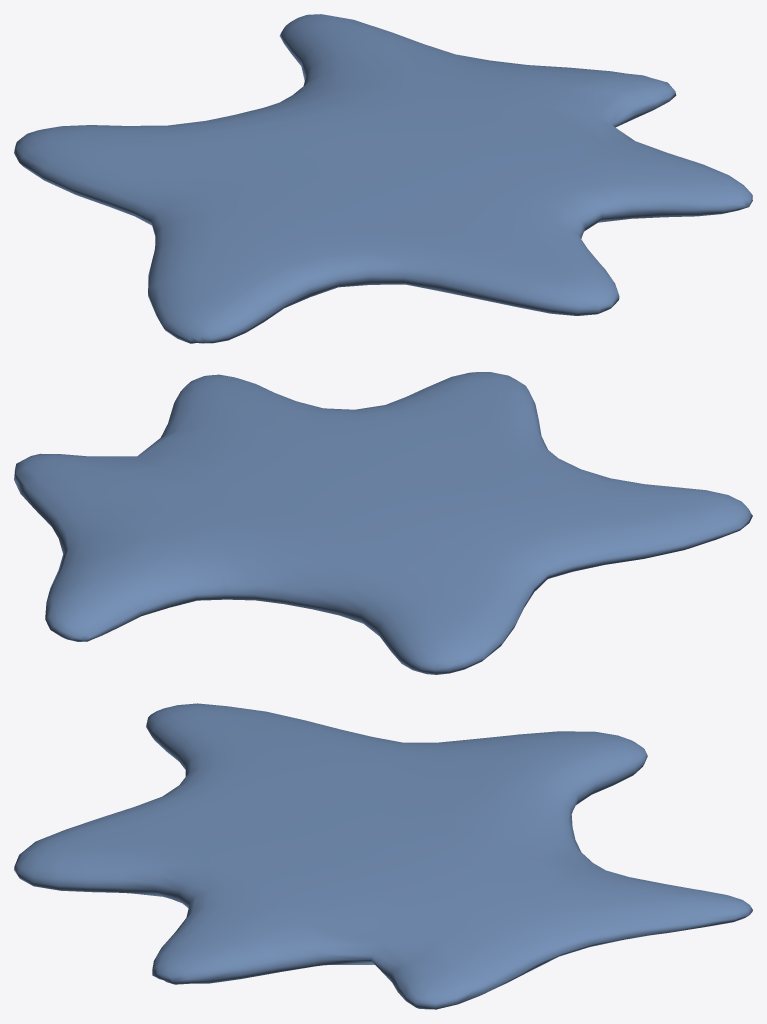
File: charco (2).fbx
The picture shows the model from 3 angles, top to bottom: view 1: azimuth 30°, elevation 25°; view 2: azimuth 150°, elevation 25°; view 3: azimuth 270°, elevation 25°; orthographic projection. The views are drawn at different scales.
Parts seen in each view (by area): view 1: charco; view 2: charco; view 3: charco.
Part boxes in pixels (x1,y1,x2,y2): charco: (14, 14, 752, 343); charco: (14, 372, 752, 674); charco: (14, 703, 752, 1009).
Bounding box in the file's own units: 62.56 × 3.93 × 65.38.
